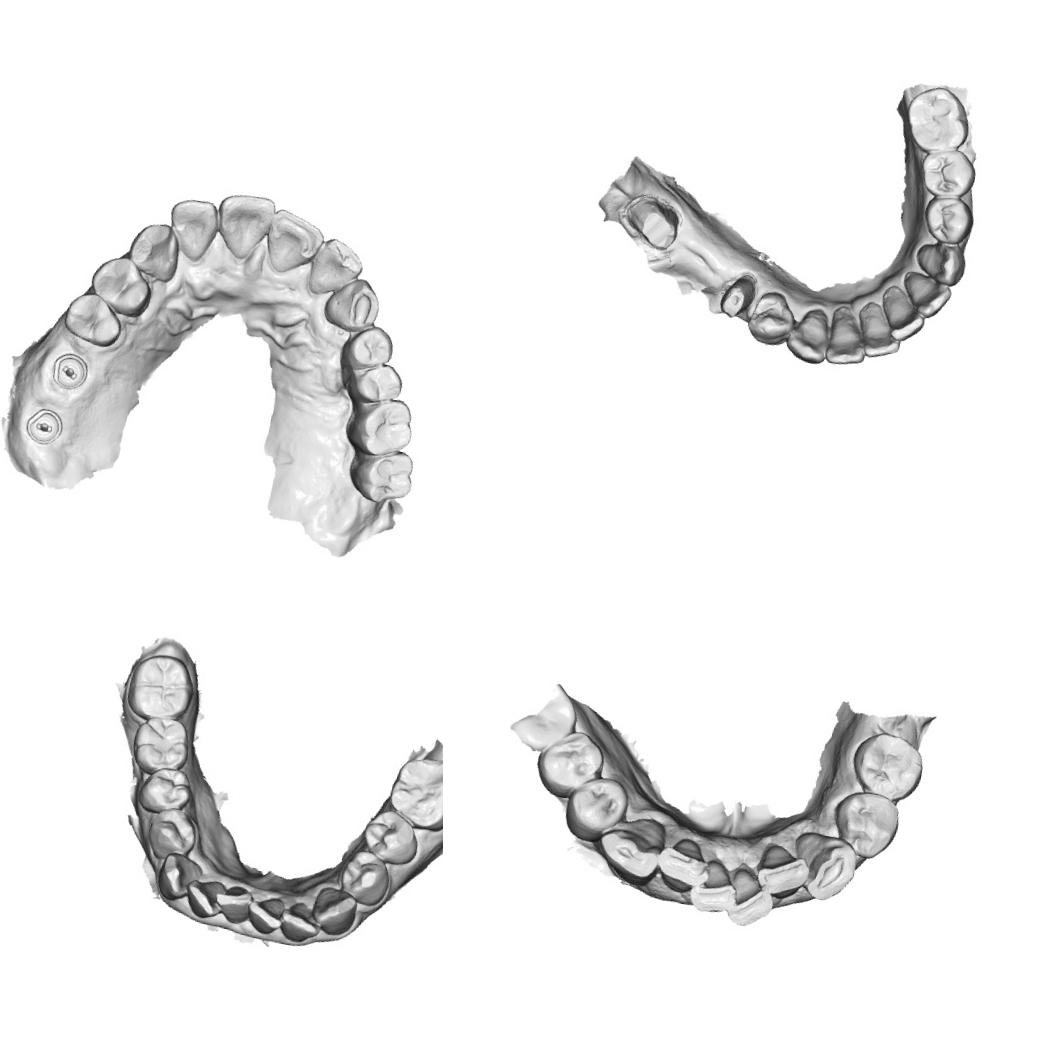canine: (594, 813, 666, 885), (790, 830, 856, 904), (318, 270, 386, 336), (781, 296, 840, 370), (122, 216, 184, 284), (152, 848, 207, 906), (914, 231, 973, 284), (306, 882, 360, 938)
crown: (613, 178, 699, 258), (716, 264, 768, 321)
implant_minus: (21, 404, 66, 450), (48, 348, 93, 394)
incisor: (258, 205, 329, 282), (210, 187, 278, 265), (303, 232, 368, 303), (722, 854, 780, 932), (161, 192, 222, 264), (820, 301, 877, 371), (852, 296, 912, 362), (655, 834, 716, 894), (751, 841, 812, 900), (688, 854, 740, 919), (878, 284, 932, 342), (902, 266, 954, 318), (274, 896, 326, 947), (180, 873, 228, 921), (209, 880, 255, 927), (242, 890, 287, 937)
molar: (900, 80, 976, 162), (122, 647, 198, 726), (340, 390, 418, 463), (382, 750, 443, 836), (343, 440, 419, 509), (126, 711, 194, 781)
premolar: (843, 725, 927, 806), (530, 723, 608, 802), (828, 786, 902, 866), (82, 250, 158, 321), (560, 772, 628, 843), (356, 804, 423, 870), (58, 288, 128, 350), (740, 278, 799, 348), (334, 845, 396, 910), (141, 802, 202, 866), (917, 142, 978, 202), (134, 762, 196, 819), (336, 318, 397, 375), (918, 189, 976, 247), (349, 356, 407, 410)
